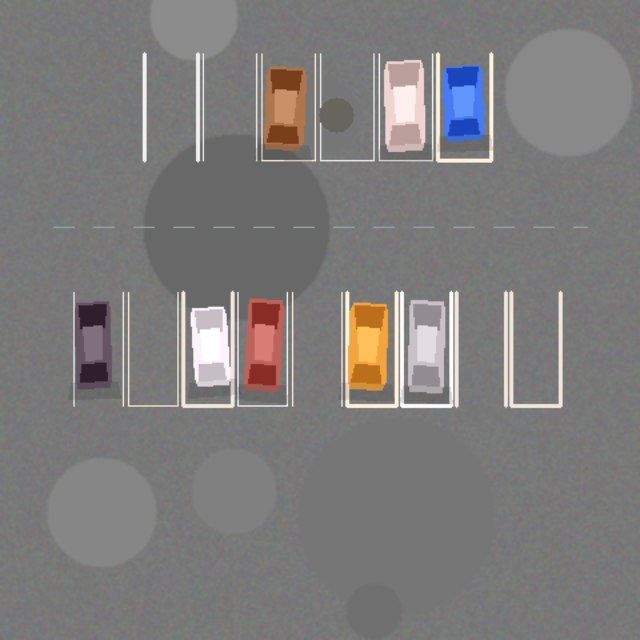space-empty: (144, 53, 197, 160), (203, 53, 256, 160), (320, 53, 373, 160), (128, 292, 177, 405), (292, 292, 341, 405), (456, 292, 505, 405), (511, 292, 560, 405)
space-occupied: (261, 53, 315, 160), (437, 53, 491, 160), (379, 53, 432, 160), (73, 292, 123, 405), (237, 292, 287, 405), (401, 292, 451, 405), (183, 292, 232, 405), (347, 292, 396, 405)
